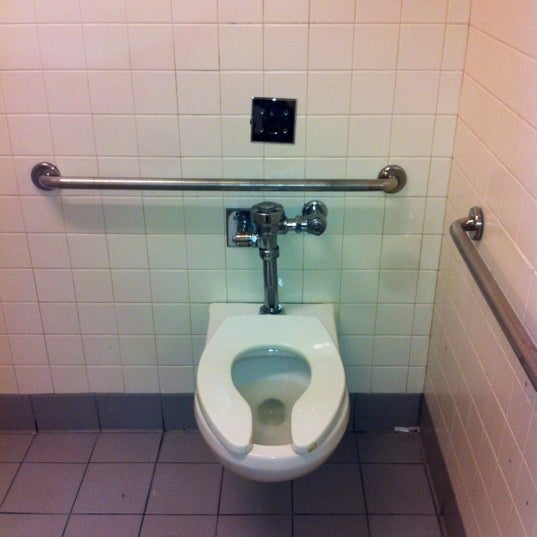restroom_assist_bar: (449, 206, 537, 391), (30, 162, 408, 193)
toilet: (193, 301, 350, 484)
